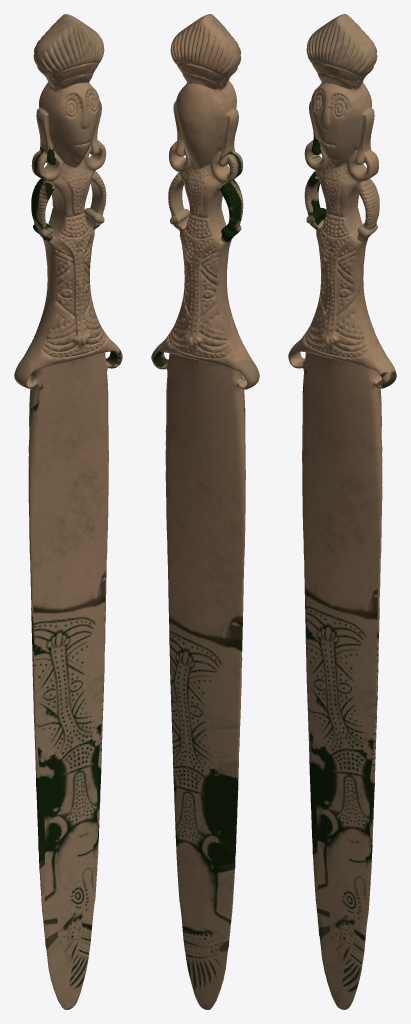
Rendered from RitualKnife.fbx.
3 renders of one model, left to right at view 1: azimuth 30°, elevation 25°; view 2: azimuth 150°, elevation 25°; view 3: azimuth 330°, elevation 25°, orthographic.
Visible parts, largest first — view 1: 000-0-0; view 2: 000-0-0; view 3: 000-0-0.
Part boxes in pixels (x1,y1,x2,y2): 000-0-0: [14, 14, 122, 1009]; 000-0-0: [151, 14, 259, 1009]; 000-0-0: [288, 14, 396, 1009].
Bounding box in the file's own units: 21.77 × 200 × 12.4.
